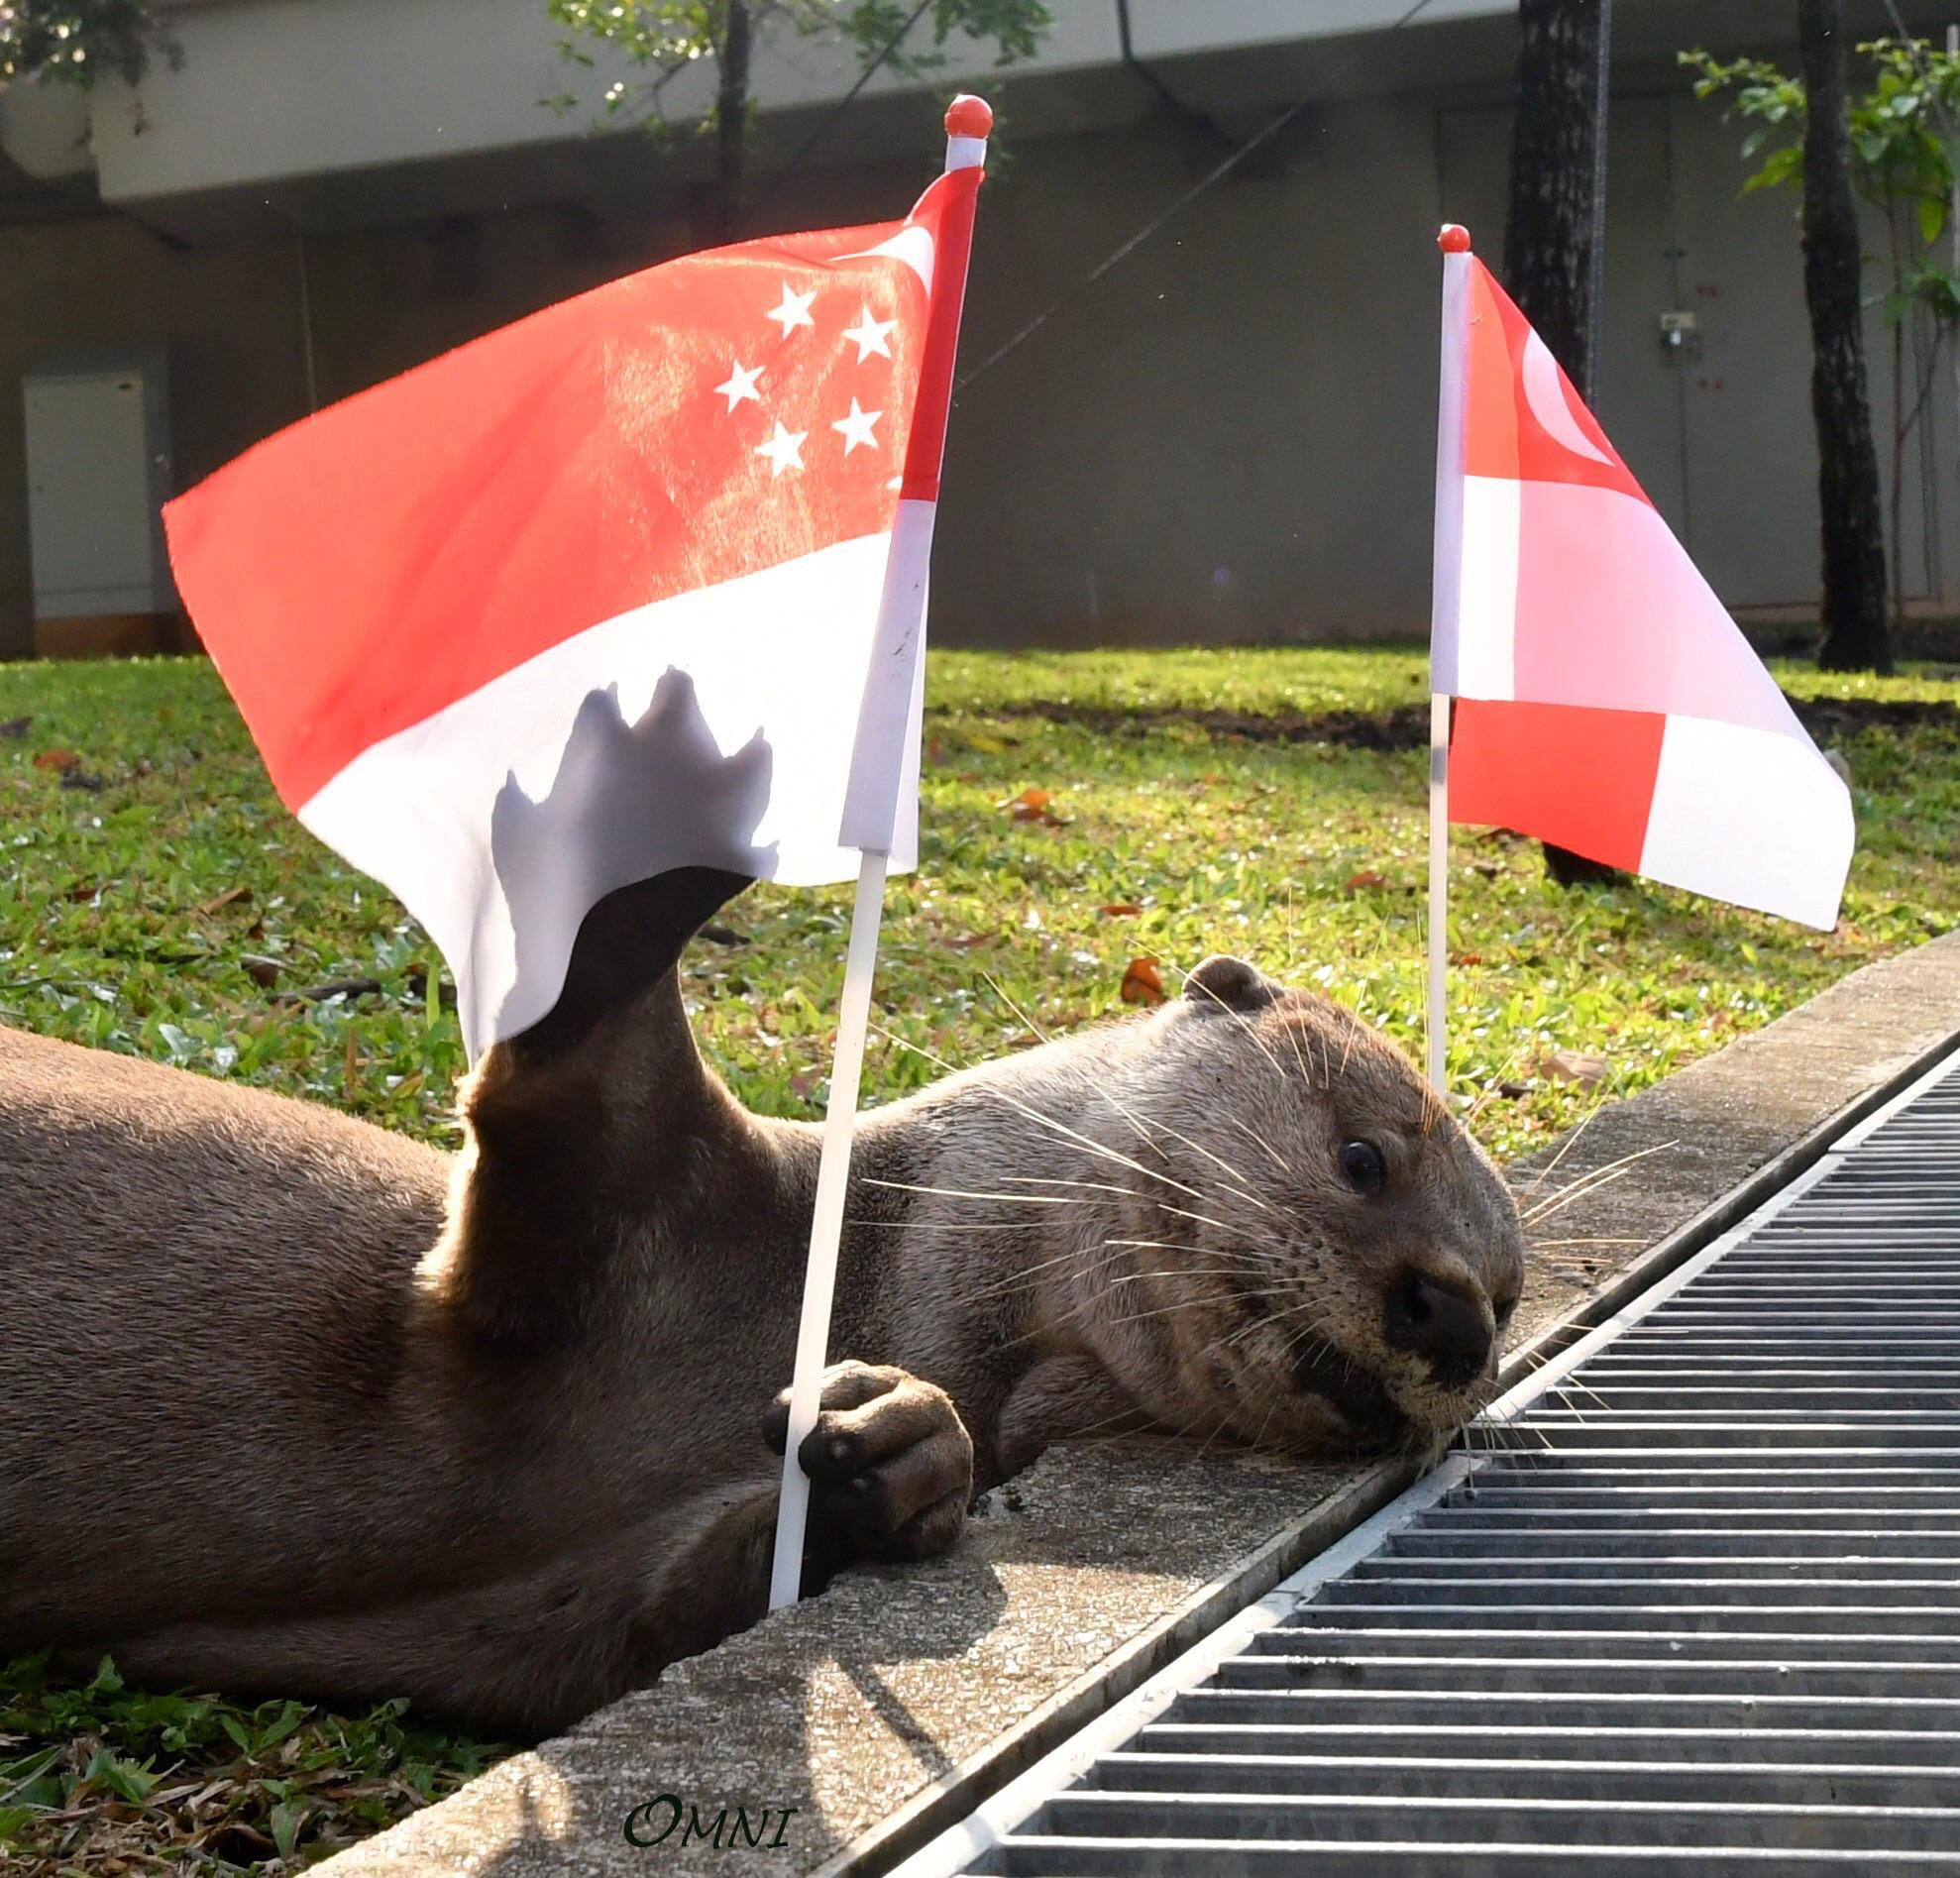otter: (30, 942, 1536, 1752)
